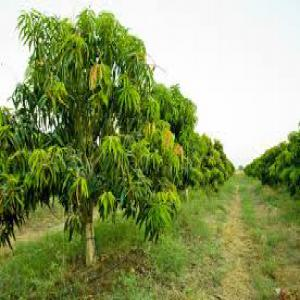Tree: (1, 7, 195, 262), (175, 116, 238, 195)
